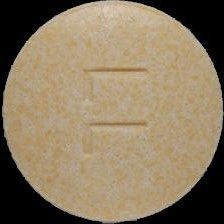61919-308: (0, 0, 224, 224)
